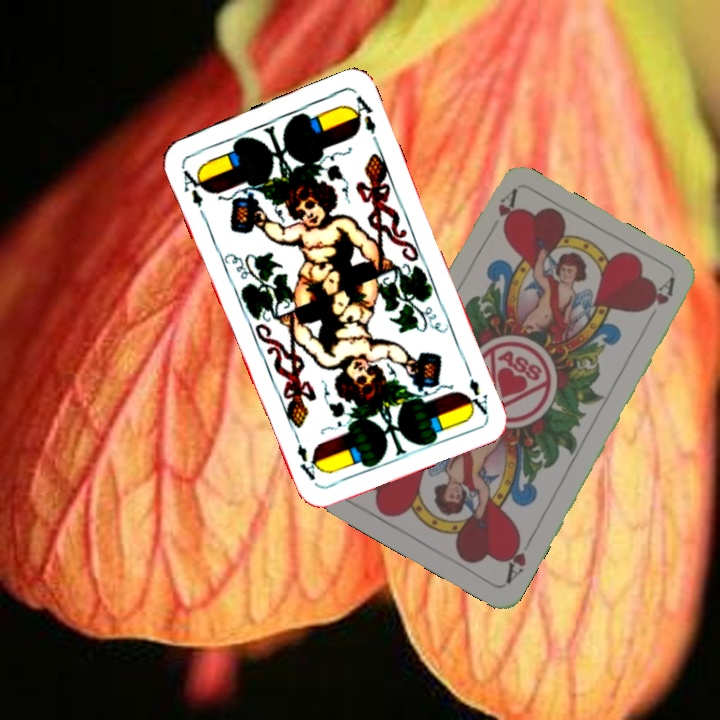EA: (460, 360, 491, 417), (177, 161, 209, 210)
HA: (501, 530, 536, 586), (493, 186, 520, 236)
